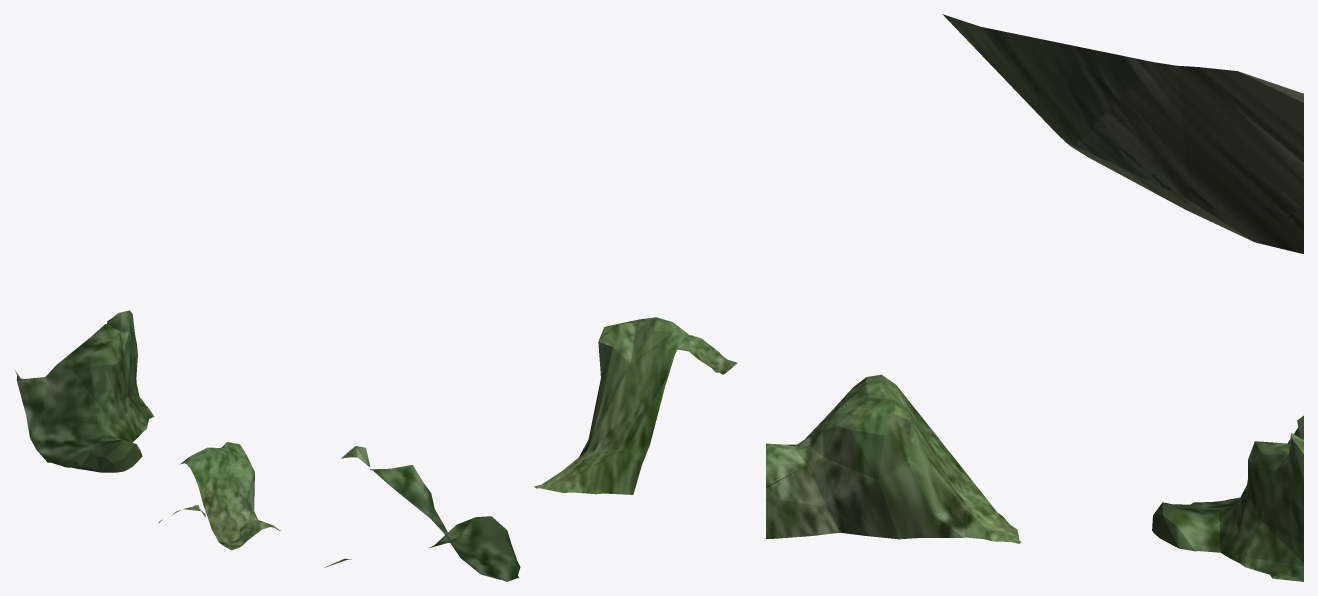
3 renders of one model, left to right at view 1: azimuth 30°, elevation 25°; view 2: azimuth 150°, elevation 25°; view 3: azimuth 270°, elevation 25°, orthographic. The views are drawn at different scales.
Size of the model in its own units: 1.04 by 2.95 by 2.95.
1 material, 1 textured.
